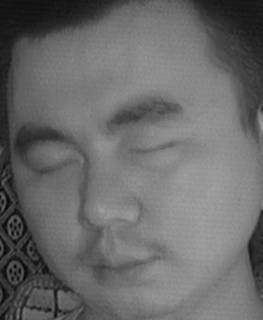blink: (30, 148, 80, 186), (125, 131, 180, 164)
mouth: (80, 240, 161, 293)
